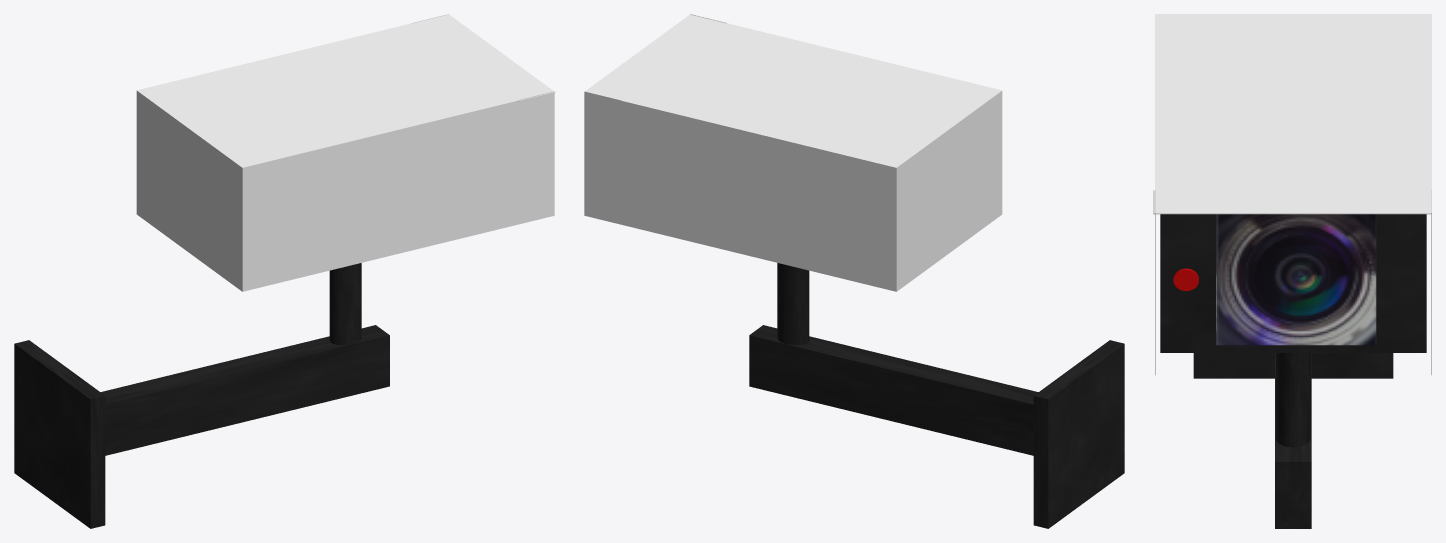
File: Camera2.fbx
3 renders of one model, left to right at view 1: azimuth 30°, elevation 25°; view 2: azimuth 150°, elevation 25°; view 3: azimuth 270°, elevation 25°, orthographic. The views are drawn at different scales.
Parts seen in each view (by area): view 1: Cube, Cube.002, Cube.003, Cylinder; view 2: Cube, Cube.002, Cube.003, Cylinder; view 3: Cube, Plane, Cube.001, Cube.003, Cube.002, Cylinder, Cube.006, red.
Part boxes in pixels (x1,y1,x2,y2): Cube: (136, 14, 554, 291); Cube.002: (101, 325, 389, 455); Cube.003: (14, 340, 105, 528); Cylinder: (329, 263, 361, 345); Cube: (584, 14, 1002, 291); Cube.002: (749, 325, 1038, 455); Cube.003: (1033, 340, 1124, 528); Cylinder: (777, 263, 809, 345); Cube: (1155, 14, 1431, 213); Plane: (1216, 214, 1376, 345); Cube.001: (1160, 214, 1426, 352); Cube.003: (1193, 353, 1393, 378); Cube.002: (1275, 353, 1311, 528); Cylinder: (1276, 353, 1310, 447); Cube.006: (1153, 190, 1431, 214); red: (1173, 268, 1198, 291).
Bounding box in the file's own units: 288 × 207 × 118.
Materials: 7 (5 with a texture image).
